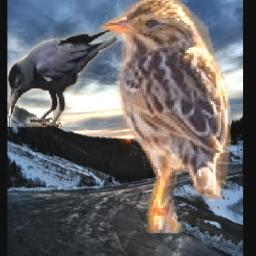Crow: (7, 29, 118, 128)
Sparrow: (99, 0, 231, 233)
